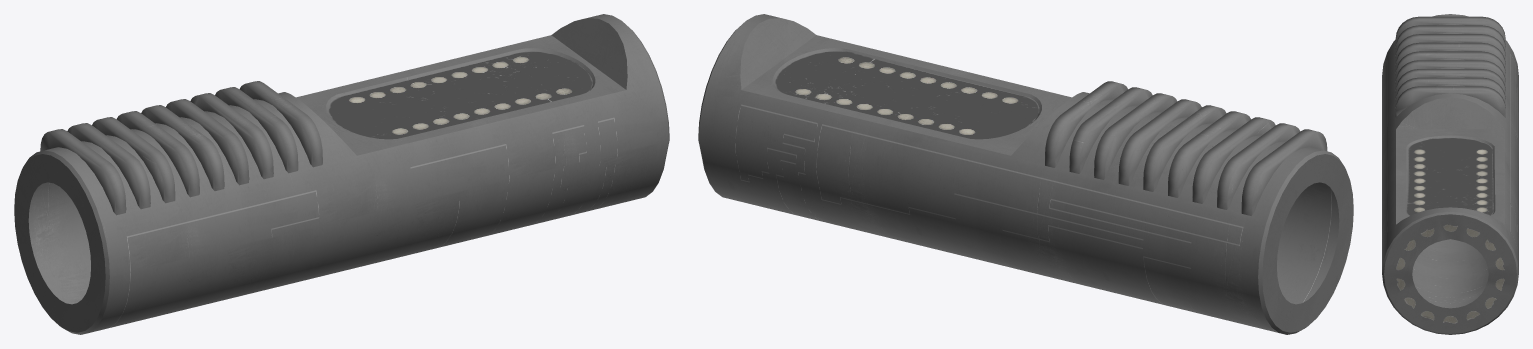
File: grip_16_u_a.glb
The picture shows the model from 3 angles, left to right: view 1: azimuth 30°, elevation 25°; view 2: azimuth 150°, elevation 25°; view 3: azimuth 270°, elevation 25°; orthographic projection. The views are drawn at different scales.
Visible parts, largest first — view 1: grip_16_u_a_lod0; view 2: grip_16_u_a_lod0; view 3: grip_16_u_a_lod0.
Boxes of the visible parts, left/top/right/bottom form: grip_16_u_a_lod0: left=14, top=14, right=669, bottom=334; grip_16_u_a_lod0: left=698, top=14, right=1353, bottom=334; grip_16_u_a_lod0: left=1382, top=14, right=1518, bottom=334.
Size of what is drawn, in the model's own units: 0.1043 by 0.0309 by 0.0302.
1 material, 1 textured.
